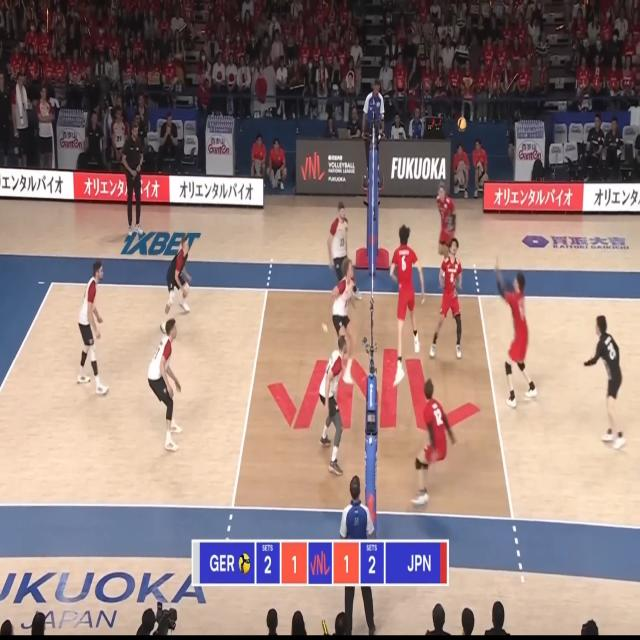ball: (458, 117, 466, 131)
